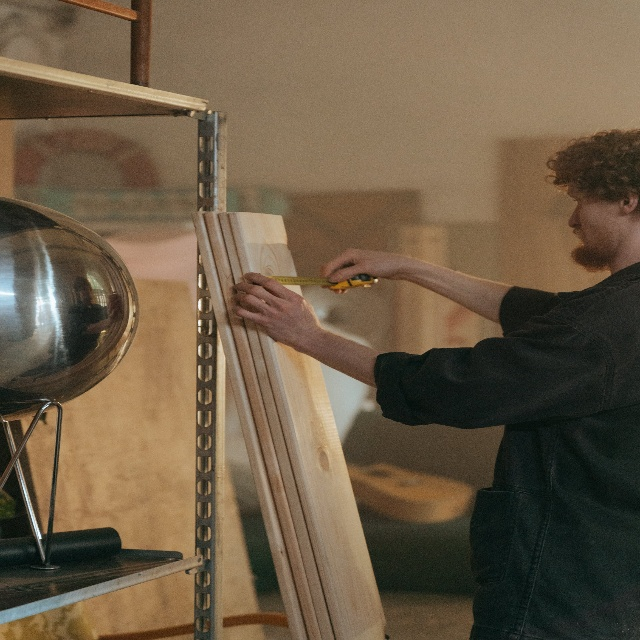Sin_guantes: (234, 268, 319, 354), (320, 241, 403, 289)
